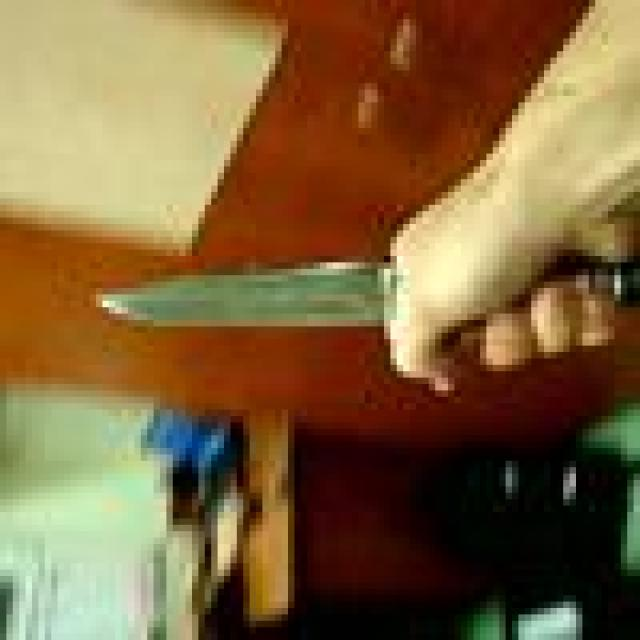knife: (95, 263, 401, 329)
